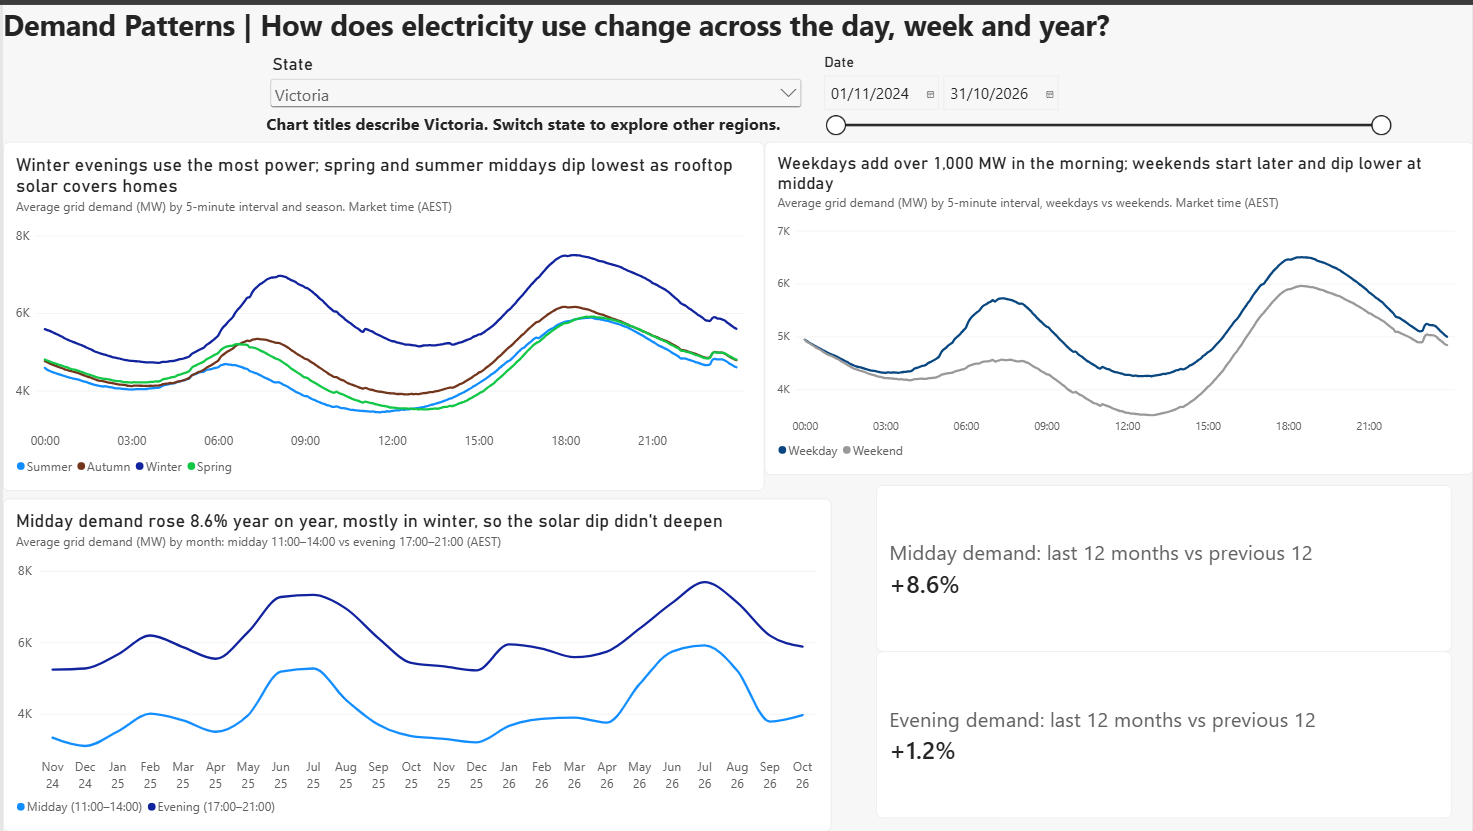

The page's visual inventory and layout, read from the dashboard file:
{"tool":"powerbi","page":{"name":"Demand Patterns","canvas":[1920,1080],"ordinal":3},"visuals":[{"type":"textbox","box":[0,0,1650.7,64.7],"z":0},{"type":"slicer","fields":{"Values":["DimRegion.State"]},"box":[344.5,63.9,704,76.2],"z":1000,"group":"g1"},{"type":"slicer","fields":{"Values":["DimDate.Date"]},"box":[1065.6,64.7,752.2,184],"z":1000},{"type":"lineChart","title":"Winter evenings use the most power; spring and summer middays dip lowest as rooftop solar covers homes","fields":{"Category":["DimTime.Time"],"Series":["DimDate.Season"],"Y":["_Measures.Avg Demand MW"]},"box":[0,178.8,994.6,456.4],"z":2000},{"type":"lineChart","title":"Weekdays add over 1,000 MW in the morning; weekends start later and dip lower at midday","fields":{"Category":["DimTime.Time"],"Series":["DimDate.DayType"],"Y":["_Measures.Avg Demand MW"]},"box":[994.6,178.8,926.2,435.5],"z":3000},{"type":"lineChart","title":"Midday demand rose 8.6% year on year, mostly in winter, so the solar dip didn''t deepen","fields":{"Category":["DimDate.MonthLabel"],"Y":["_Measures.Midday Demand MW","_Measures.Evening Demand MW"]},"box":[0,644.7,1082.1,435.5],"z":4000},{"type":"cardVisual","fields":{"Data":["_Measures.Midday Demand Change 12M"]},"box":[1140.4,626.8,752.2,218.4],"z":5000},{"type":"cardVisual","fields":{"Data":["_Measures.Evening Demand Change 12M"]},"box":[1140.4,845.2,752.2,218.4],"z":6000},{"type":"group","id":"g1","title":"Group 1","box":[344.5,63.9,703.4,109.3],"z":7000},{"type":"textbox","box":[344.5,140.1,704,33],"z":10000,"group":"g1"}]}

Visuals, with their boxes in screenshot pixels (x1, y1, x2, y2), scaled from the page's 1920x1080 canvas onto the 1473x831 screenshot:
textbox: bbox=(0, 0, 1266, 50)
slicer - DimRegion.State: bbox=(264, 49, 804, 108)
slicer - DimDate.Date: bbox=(818, 50, 1395, 191)
"Winter evenings use the most power; spring and summer middays dip lowest as rooftop solar covers homes" lineChart: bbox=(0, 138, 763, 489)
"Weekdays add over 1,000 MW in the morning; weekends start later and dip lower at midday" lineChart: bbox=(763, 138, 1472, 473)
"Midday demand rose 8.6% year on year, mostly in winter, so the solar dip didn''t deepen" lineChart: bbox=(0, 496, 830, 830)
cardVisual - _Measures.Midday Demand Change 12M: bbox=(875, 482, 1452, 650)
cardVisual - _Measures.Evening Demand Change 12M: bbox=(875, 650, 1452, 818)
"Group 1" group: bbox=(264, 49, 804, 133)
textbox: bbox=(264, 108, 804, 133)
